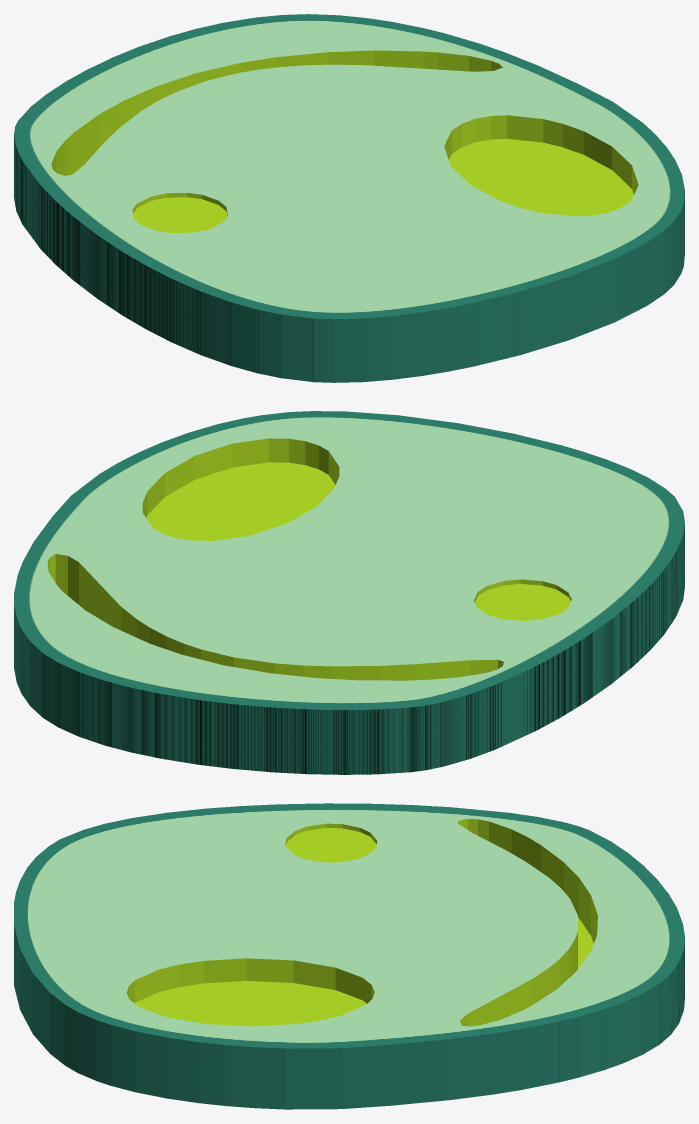
The model's file is cellwall.gltf.
The picture shows the model from 3 angles, top to bottom: view 1: azimuth 30°, elevation 25°; view 2: azimuth 150°, elevation 25°; view 3: azimuth 270°, elevation 25°; orthographic projection. The views are drawn at different scales.
Size of the model in its own units: 0.1473 by 0.0171 by 0.1704.
Materials: 2 (1 with a texture image).
